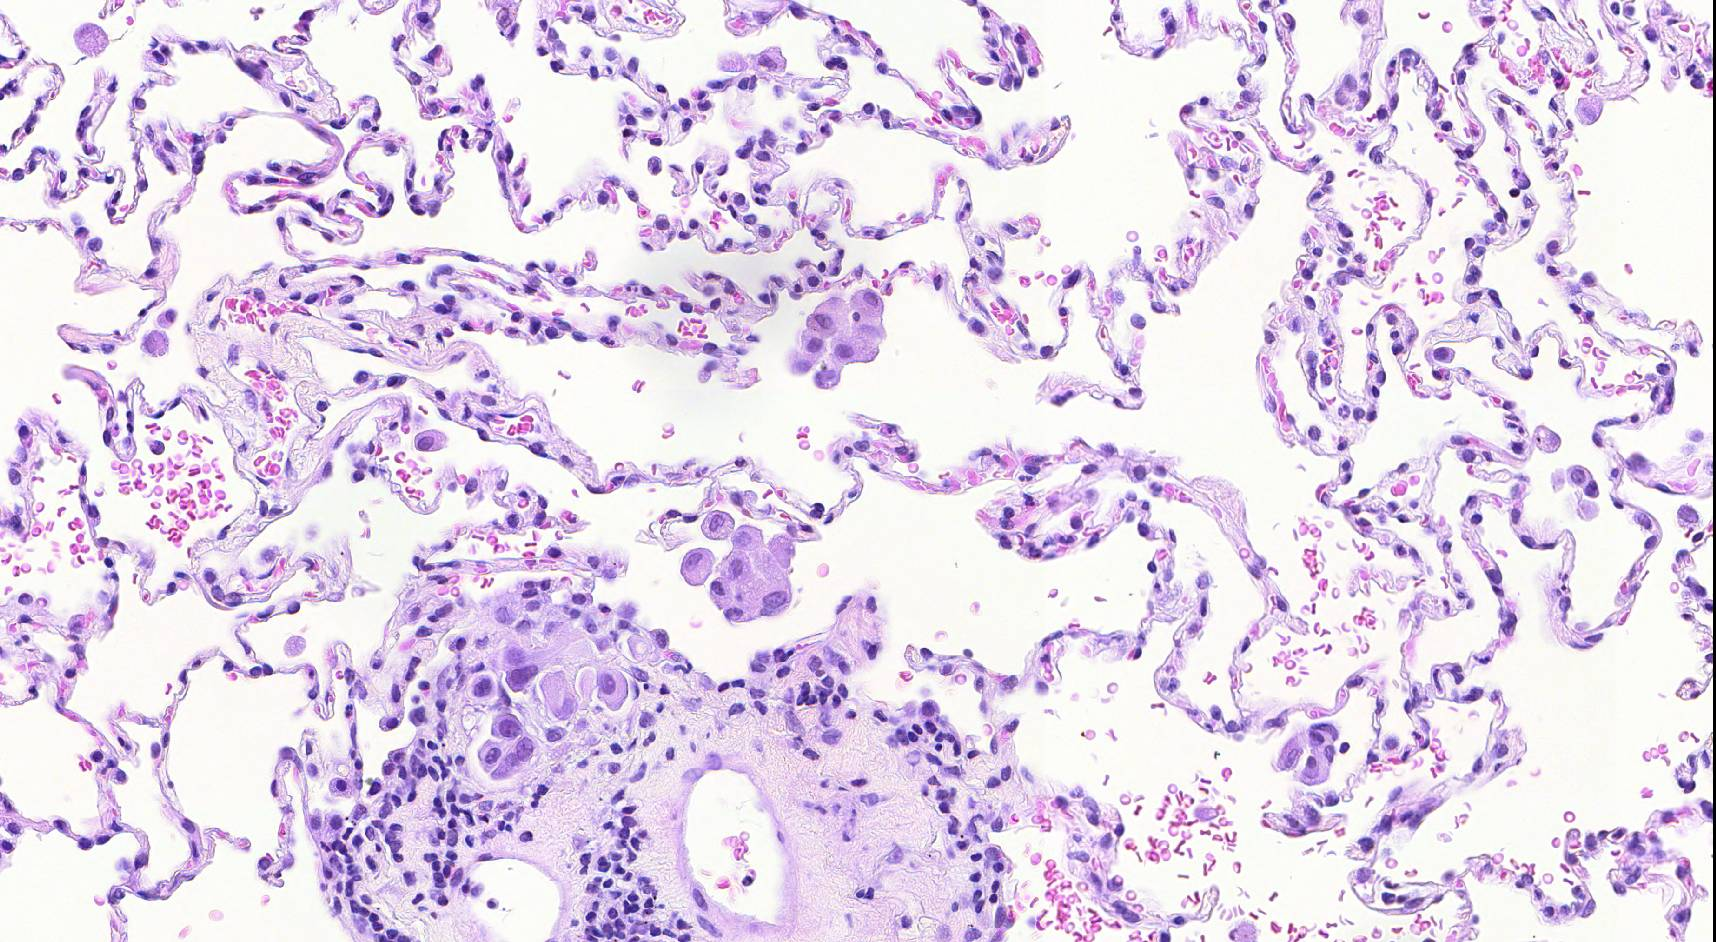stas: (678, 510, 808, 626), (784, 282, 898, 392), (1276, 717, 1342, 787)
